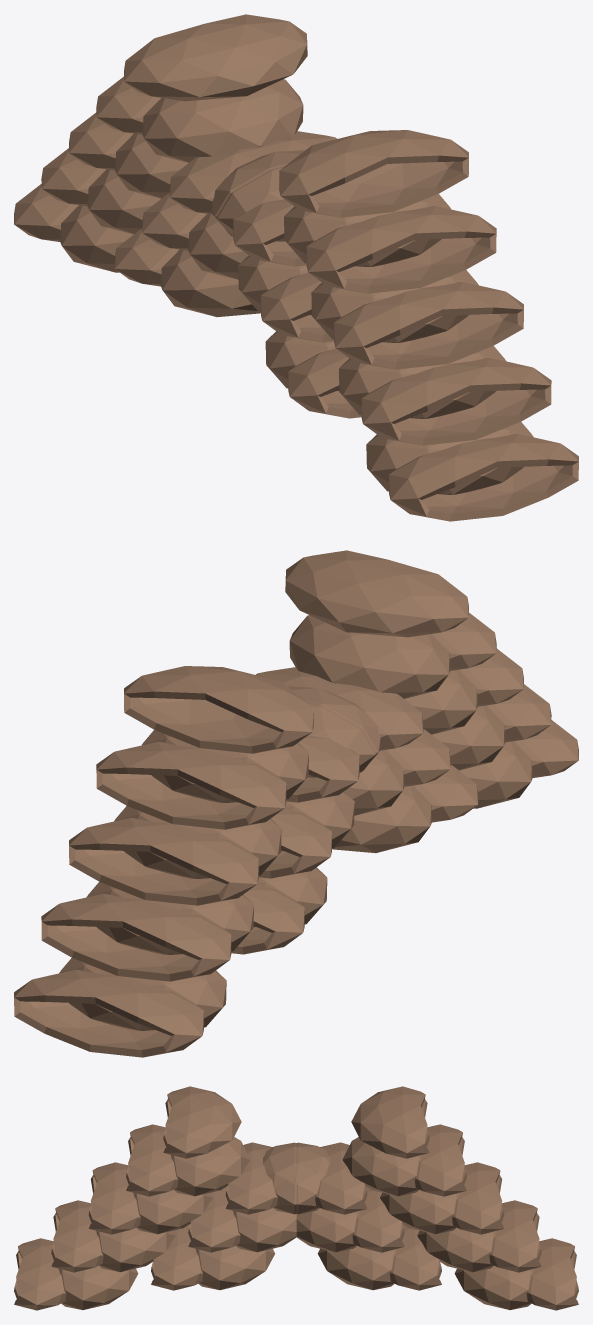
The model's file is SM_Prop_Sacks02.fbx.
3 views of the same model, one above another, from view 1: azimuth 30°, elevation 25°; view 2: azimuth 150°, elevation 25°; view 3: azimuth 270°, elevation 25° (orthographic). The views are drawn at different scales.
Visible parts, largest first — view 1: Icosphere.006; view 2: Icosphere.006; view 3: Icosphere.006.
Boxes of the visible parts, box(x1,y1,x2,y2) form: Icosphere.006: box(14, 14, 578, 521); Icosphere.006: box(14, 550, 578, 1057); Icosphere.006: box(14, 1086, 578, 1310).
Size of the model in its own units: 540 by 204 by 139.
